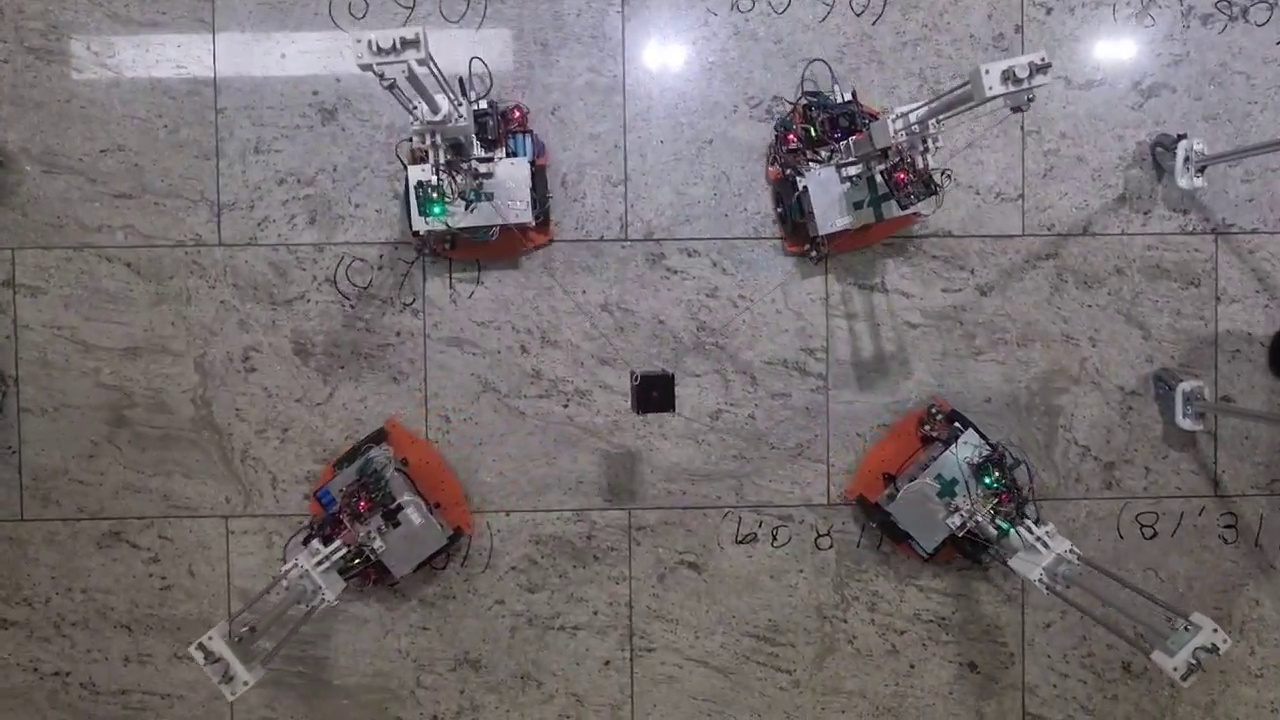e0: (634, 374, 674, 413)
r1: (854, 407, 1001, 545)
r2: (772, 148, 916, 239)
r3: (406, 167, 550, 230)
r4: (332, 429, 464, 574)
y_+_axis_vector: (627, 236, 1024, 241)
y_-_axis_vector: (221, 241, 627, 245)
